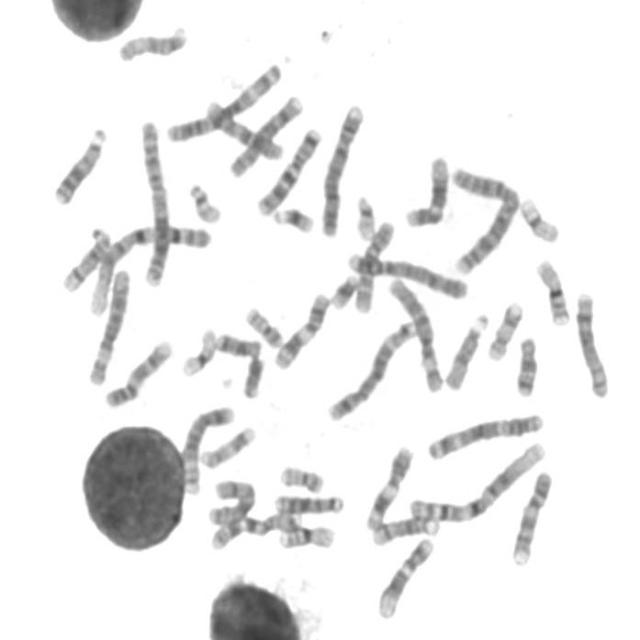A1: (82, 217, 214, 318), (402, 434, 548, 525)
A2: (444, 159, 522, 276), (133, 110, 172, 289)
A3: (160, 56, 284, 143), (422, 406, 548, 462)
B4: (314, 97, 365, 239), (343, 245, 470, 301)
B5: (322, 314, 420, 423), (176, 399, 236, 497)
C10: (201, 95, 287, 162), (348, 213, 398, 314)
C11: (267, 285, 332, 371), (360, 439, 415, 533)
C12: (372, 531, 436, 621), (399, 148, 452, 228)
C6: (383, 270, 445, 395), (82, 262, 132, 386)
C7: (252, 122, 323, 217), (204, 506, 303, 552)
C8: (224, 89, 306, 180), (570, 285, 612, 400)
C9: (99, 332, 175, 410), (507, 464, 554, 568)
D13: (47, 119, 108, 207), (269, 488, 345, 518)
D14: (57, 221, 113, 294), (367, 510, 442, 547)
D15: (440, 306, 490, 392), (113, 18, 189, 63)
E16: (531, 252, 573, 328), (273, 518, 337, 550)
E17: (195, 418, 258, 469), (482, 294, 525, 363)
E18: (510, 329, 540, 398), (210, 326, 264, 358)
F19: (514, 190, 562, 245), (176, 321, 218, 378)
F20: (238, 299, 286, 350), (275, 458, 326, 495)
G21: (267, 199, 317, 235), (325, 267, 361, 311)
G22: (183, 177, 223, 224), (349, 188, 377, 241)
X: (203, 474, 258, 528)
Y: (237, 350, 266, 399)
